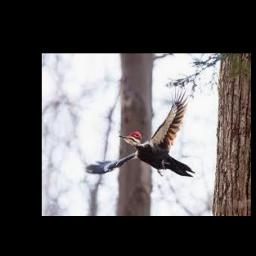Woodpecker: (85, 87, 195, 177)
